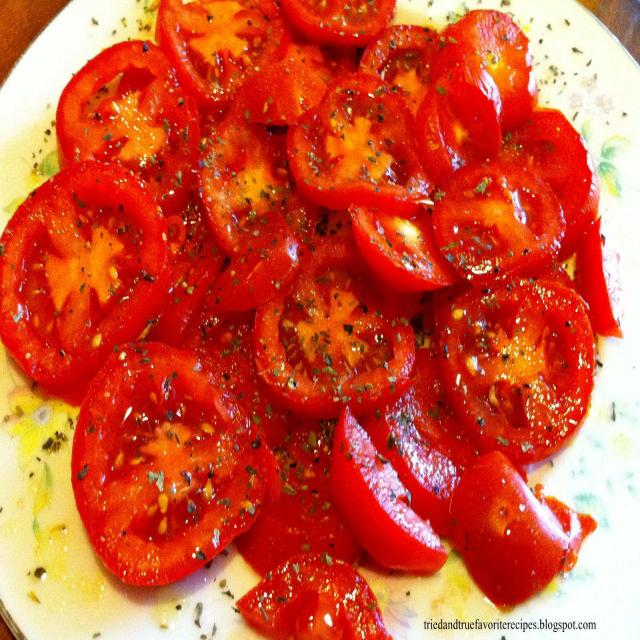Tomato: (74, 341, 278, 581), (3, 173, 173, 389), (444, 284, 594, 460), (41, 43, 209, 197), (260, 259, 420, 409), (287, 78, 435, 213)
